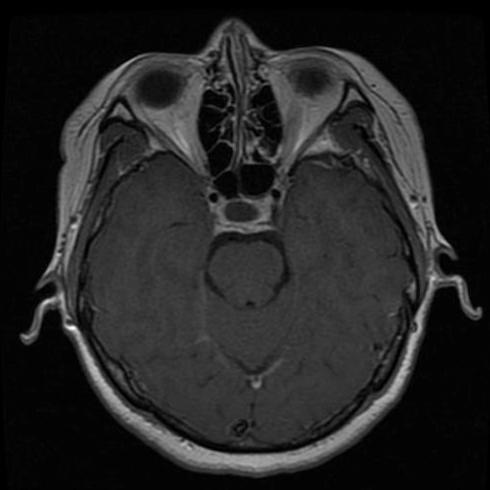Tumour-Pituitary: (209, 193, 287, 236)
